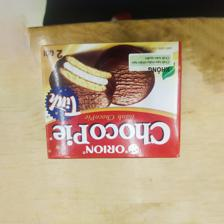Chocopie: (39, 41, 183, 161)
